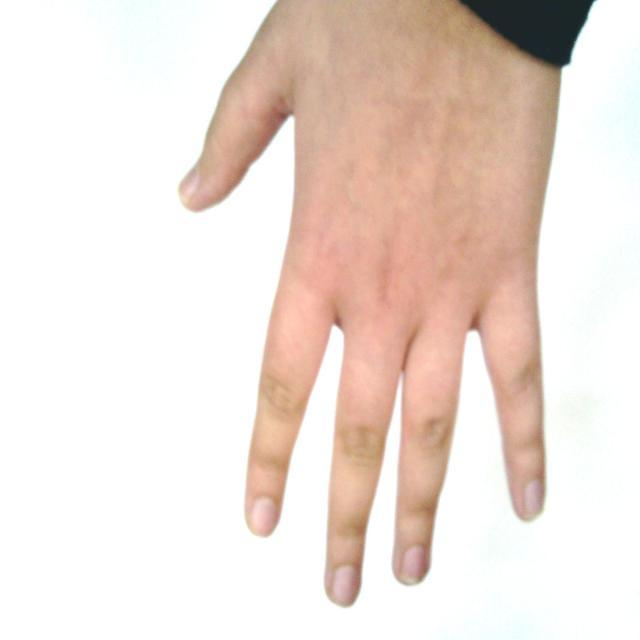Fingernail: (331, 566, 358, 607), (252, 498, 277, 537), (401, 546, 426, 584), (525, 482, 543, 519), (180, 169, 198, 200)
